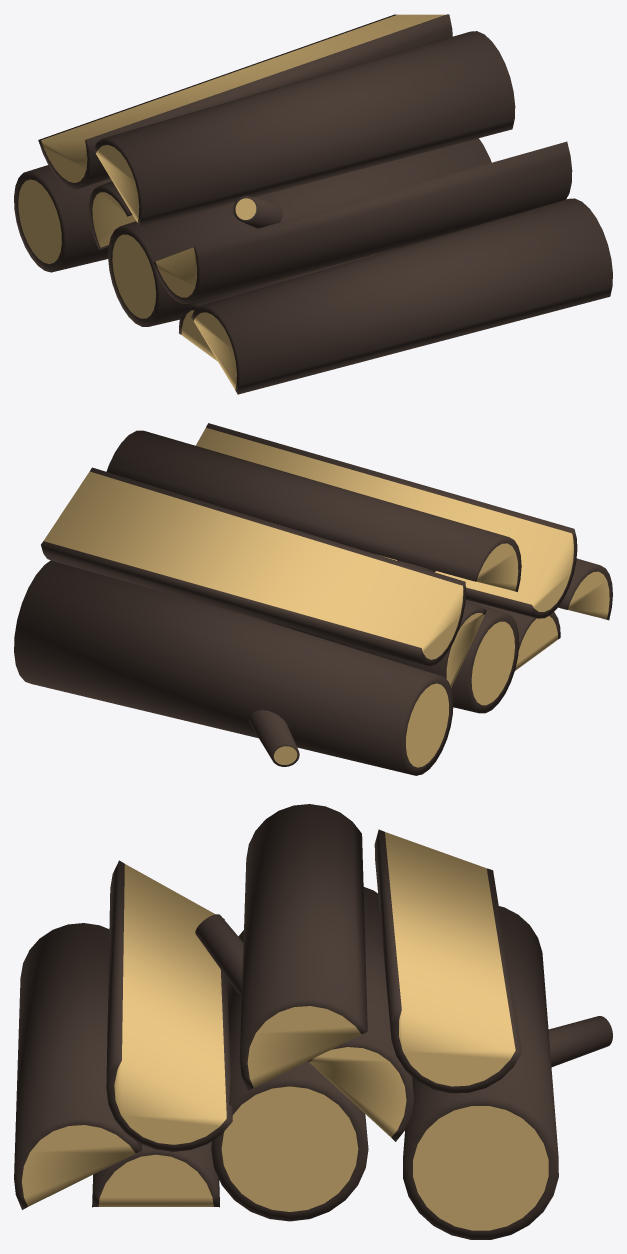
Rendered from Wood Pile.glb.
3 views of the same model, one above another, from view 1: azimuth 30°, elevation 25°; view 2: azimuth 150°, elevation 25°; view 3: azimuth 270°, elevation 25° (orthographic). The views are drawn at different scales.
Visible parts, largest first — view 1: Wood Pile; view 2: Wood Pile; view 3: Wood Pile.
Boxes of the visible parts, left/top/right/bottom form: Wood Pile: left=14, top=14, right=612, bottom=394; Wood Pile: left=14, top=423, right=612, bottom=775; Wood Pile: left=14, top=804, right=612, bottom=1239.
Size of the model in its own units: 0.8833 by 0.4324 by 0.9965.
